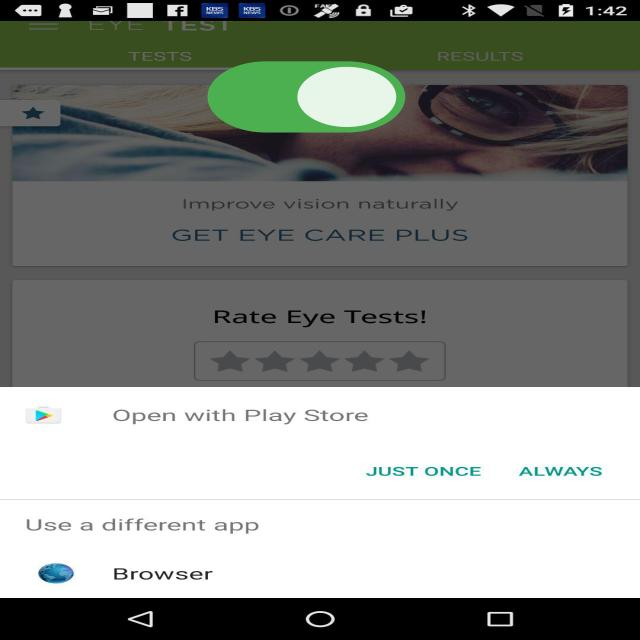social proof: (199, 34, 414, 165)
